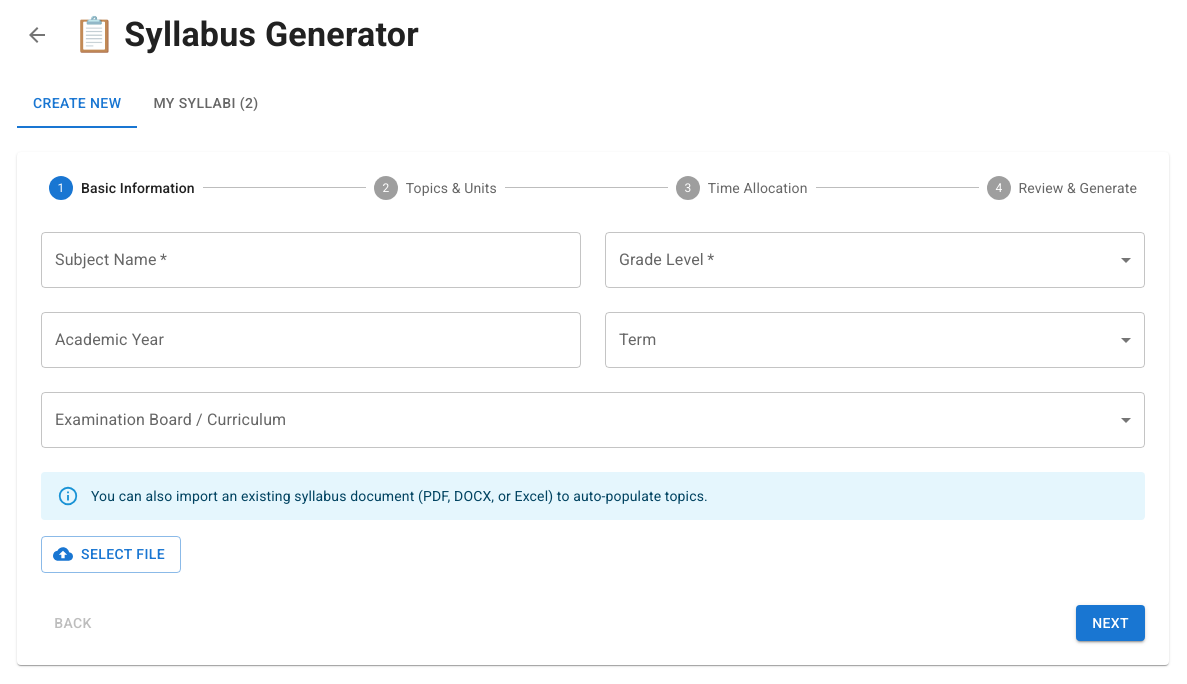
Test: SyllabusGenerator Component › shows default topic on step 2
The image size is (1187, 684).
# Navigate to step 2
Click the button "Next". click: [1111, 623]
box: [1076,604,1145,641]
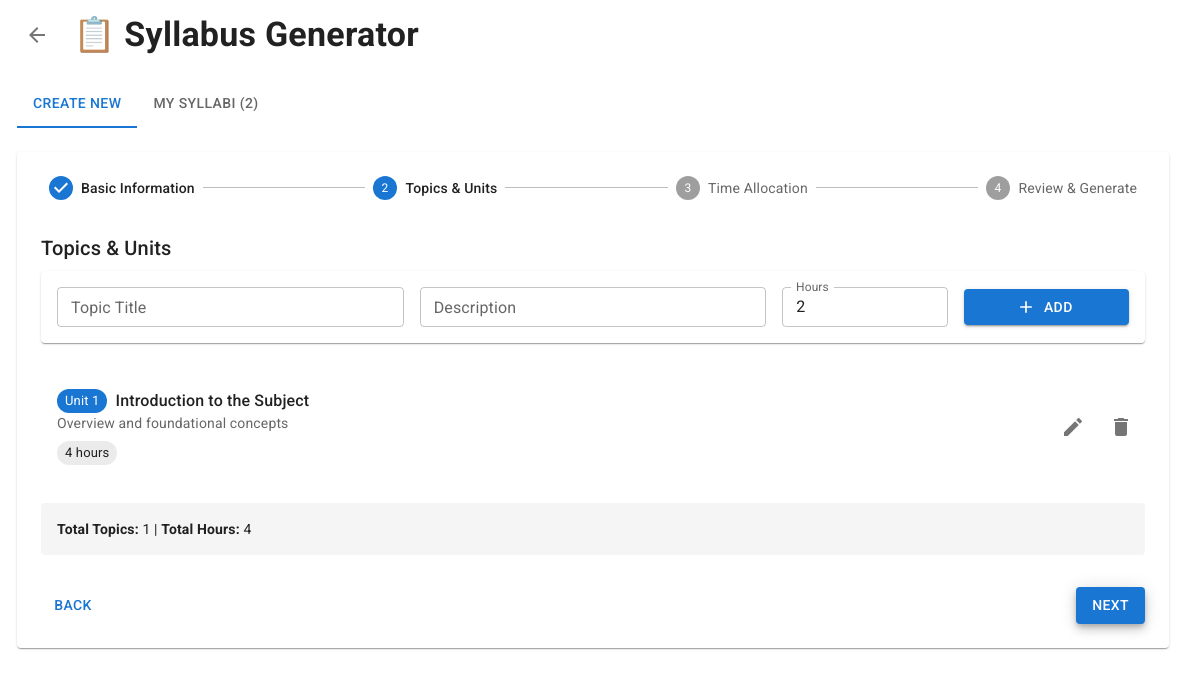
Check: the text "Introduction to the Subject" is shown, box [116,389,309,413]
